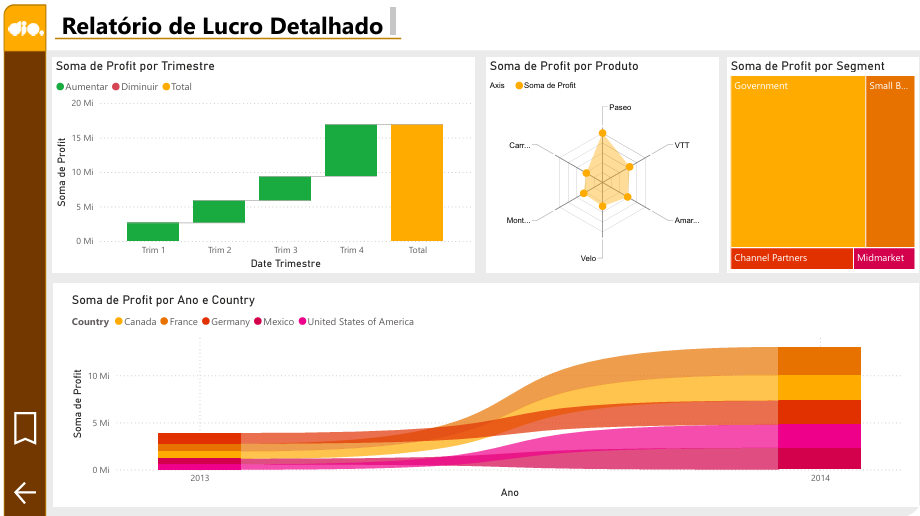

What the dashboard file says about the page in this screenshot:
{"tool":"powerbi","page":{"name":"Página 2","canvas":[1280,720],"ordinal":1},"visuals":[{"type":"shape","box":[42.6,20.7,1225.3,699.3],"z":0},{"type":"shape","box":[83.9,127.8,473,37.1],"z":0,"group":"g1"},{"type":"textbox","box":[85.3,97.6,470.2,52.2],"z":1000,"group":"g1"},{"type":"shape","box":[12.4,20.2,57.7,699.8],"z":1000},{"type":"shape","box":[12.4,20.6,57.7,63.2],"z":2000},{"type":"image","box":[13.7,33,57.7,39.9],"z":3000},{"type":"shape","title":"Fundo do Título","box":[71.5,20.6,1198.9,61.9],"z":4000},{"type":"textbox","title":"Título do report","box":[83.9,22,378.1,63.2],"z":5000},{"type":"shape","box":[79.7,233.7,576.1,473],"z":6000},{"type":"decompositionTreeVisual","fields":{"Analyze":["Sum(financials.Profit)"],"ExplainBy":["financials.Date.Variation.Hierarquia de datas.Ano","financials.Country"]},"box":[99.8,242.2,536.3,456.5],"z":7000},{"type":"waterfallChart","fields":{"Category":["financials.Date.Variation.Hierarquia de datas.Trimestre"],"Y":["Sum(financials.Profit)"]},"box":[670.9,412.5,577.4,294.2],"z":8000},{"type":"ChicletSlicer1448559807354","fields":{"Category":["financials.Date.Variation.Hierarquia de datas.Ano"]},"box":[79.7,170.5,576.1,48.1],"z":9000},{"type":"RadarChart1446119667547","fields":{"Category":["financials.Product"],"Y":["Sum(financials.Profit)"]},"box":[670.9,165,317.6,233.7],"z":10000},{"type":"treemap","fields":{"Values":["Sum(financials.Profit)"],"Group":["financials.Segment"]},"box":[1005,165,243.4,233.7],"z":11000},{"type":"actionButton","box":[22,666.8,48.1,39.9],"z":12000},{"type":"group","id":"g1","title":"Sales report","box":[83.9,97.6,473,67.4],"z":13000},{"type":"actionButton","box":[12.8,545.8,57,105.5],"z":14000}]}

Visuals, with their boxes on the page's 1280x720 design canvas (x1, y1, x2, y2). These are canvas units, not pixel positions in the 920x516 screenshot, which may show the page scaled, cropped or inside an application window:
shape: detection(43, 21, 1268, 720)
shape: detection(84, 128, 557, 165)
textbox: detection(85, 98, 556, 150)
shape: detection(12, 20, 70, 720)
shape: detection(12, 21, 70, 84)
image: detection(14, 33, 71, 73)
"Fundo do Título" shape: detection(72, 21, 1270, 82)
"Título do report" textbox: detection(84, 22, 462, 85)
shape: detection(80, 234, 656, 707)
decompositionTreeVisual - Sum(financials.Profit) x financials.Date.Variation.Hierarquia de datas.Ano: detection(100, 242, 636, 699)
waterfallChart - financials.Date.Variation.Hierarquia de datas.Trimestre x Sum(financials.Profit): detection(671, 412, 1248, 707)
ChicletSlicer1448559807354 - financials.Date.Variation.Hierarquia de datas.Ano: detection(80, 170, 656, 219)
RadarChart1446119667547 - financials.Product x Sum(financials.Profit): detection(671, 165, 988, 399)
treemap - Sum(financials.Profit) x financials.Segment: detection(1005, 165, 1248, 399)
actionButton: detection(22, 667, 70, 707)
"Sales report" group: detection(84, 98, 557, 165)
actionButton: detection(13, 546, 70, 651)
